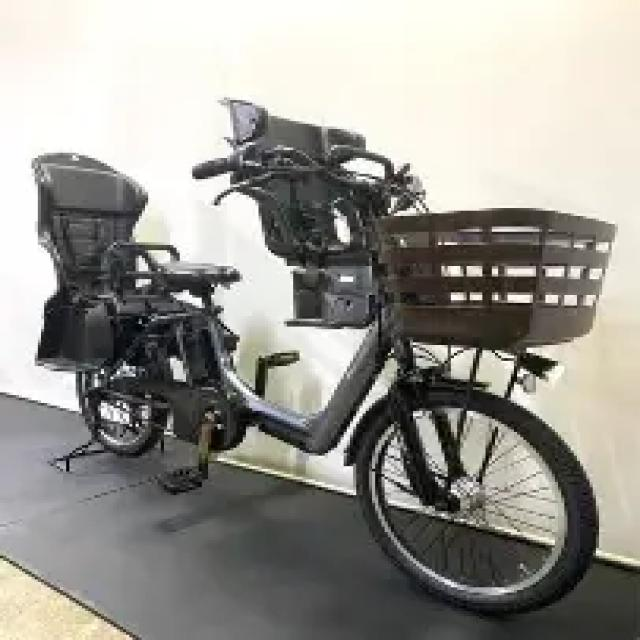basket: (377, 215, 623, 352)
battery: (181, 323, 219, 394)
childseat: (212, 94, 405, 325), (31, 138, 188, 386)
